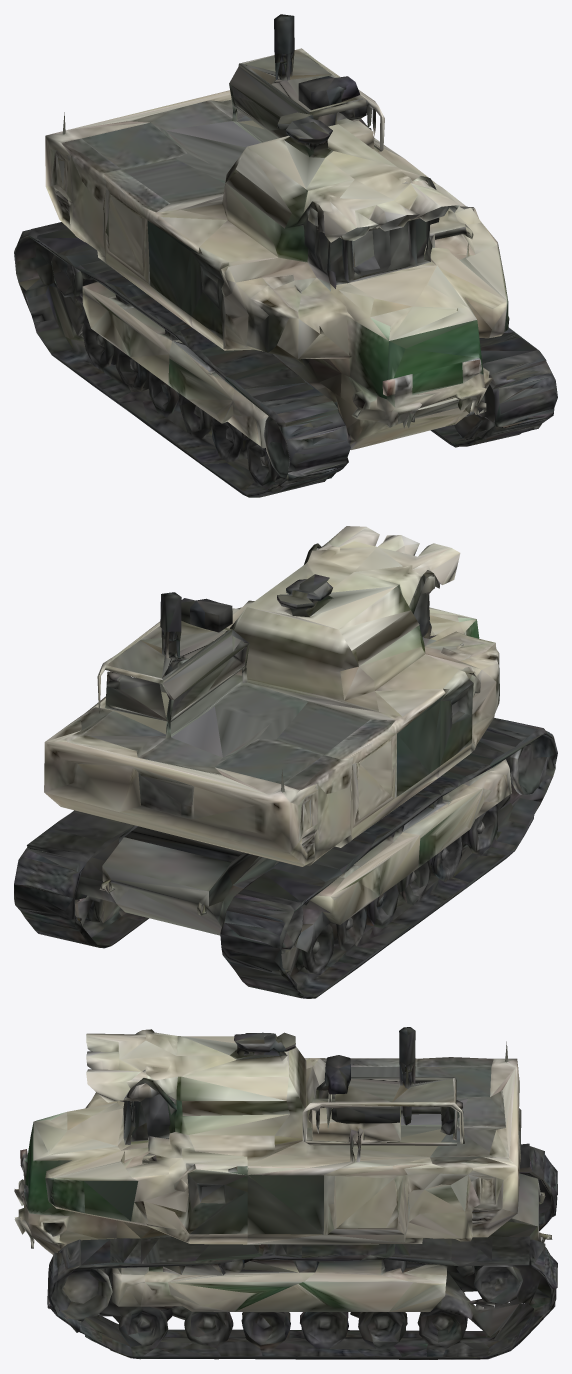
Rendered from t243_extr_lod0m.glb.
The picture shows the model from 3 angles, top to bottom: view 1: azimuth 30°, elevation 25°; view 2: azimuth 150°, elevation 25°; view 3: azimuth 270°, elevation 25°; orthographic projection. The views are drawn at different scales.
Bounding box in the file's own units: 3.12 × 3.63 × 6.
1 material, 1 textured.
